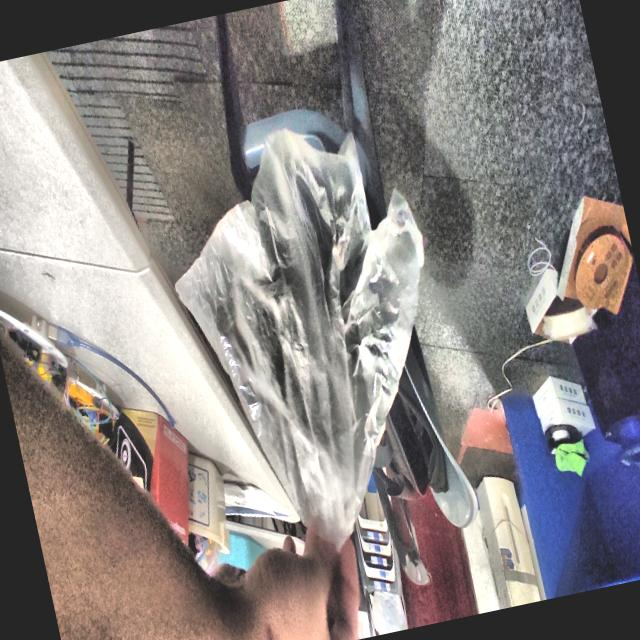plastic bag: (176, 129, 423, 545)
